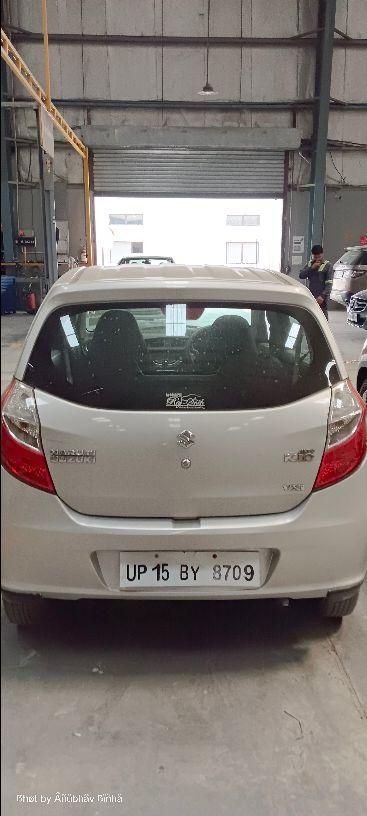license_plate: (117, 549, 263, 590)
